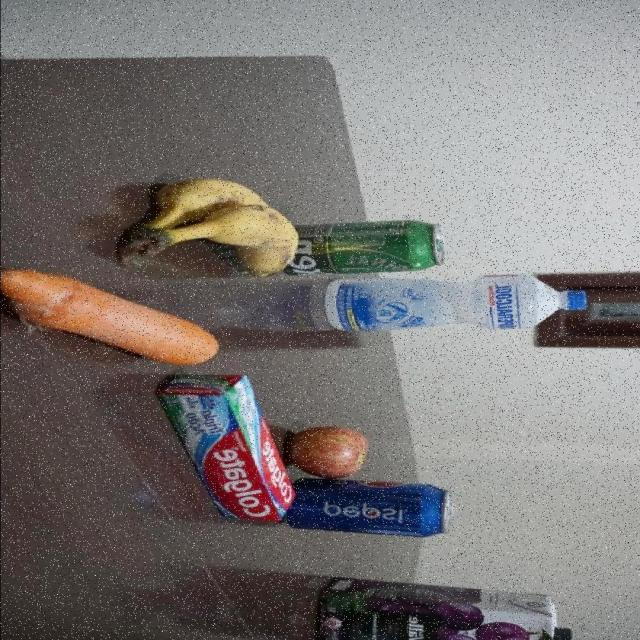AlcoholBottle: (318, 273, 589, 334)
Apple: (286, 424, 370, 479)
Banana: (115, 177, 298, 278)
BeerCan: (282, 219, 446, 276)
Carrot: (0, 267, 220, 364)
SodaCan: (283, 477, 452, 538)
Toothpaste: (156, 372, 295, 522)
